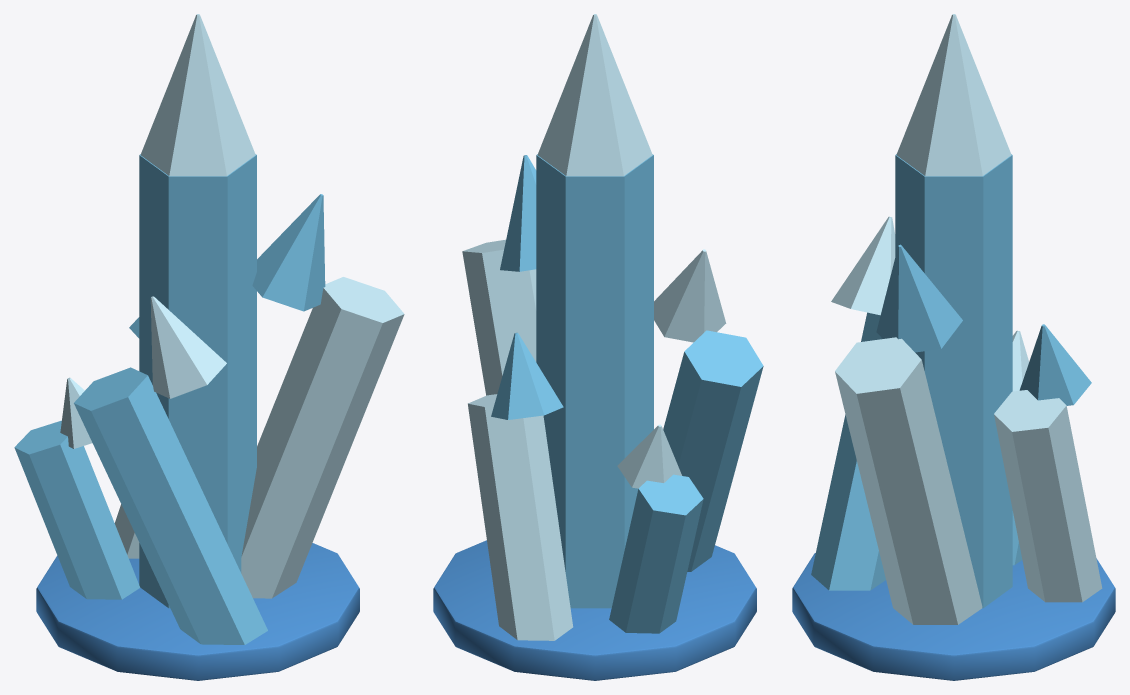
The model's file is LandIceSpire.fbx.
3 renders of one model, left to right at view 1: azimuth 30°, elevation 25°; view 2: azimuth 150°, elevation 25°; view 3: azimuth 270°, elevation 25°, orthographic.
Parts seen in each view (by area): view 1: LandIceSpire; view 2: LandIceSpire; view 3: LandIceSpire.
Part boxes in pixels (box(x1,y1,x2,y2)): LandIceSpire: box(14, 14, 404, 680); LandIceSpire: box(433, 14, 763, 680); LandIceSpire: box(792, 14, 1115, 680).
Size of the model in its own units: 471 by 906 by 440.
